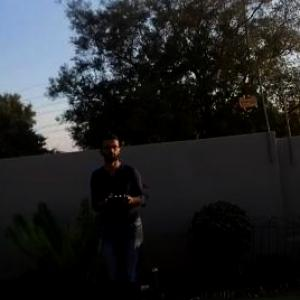follow: (88, 126, 158, 299)
